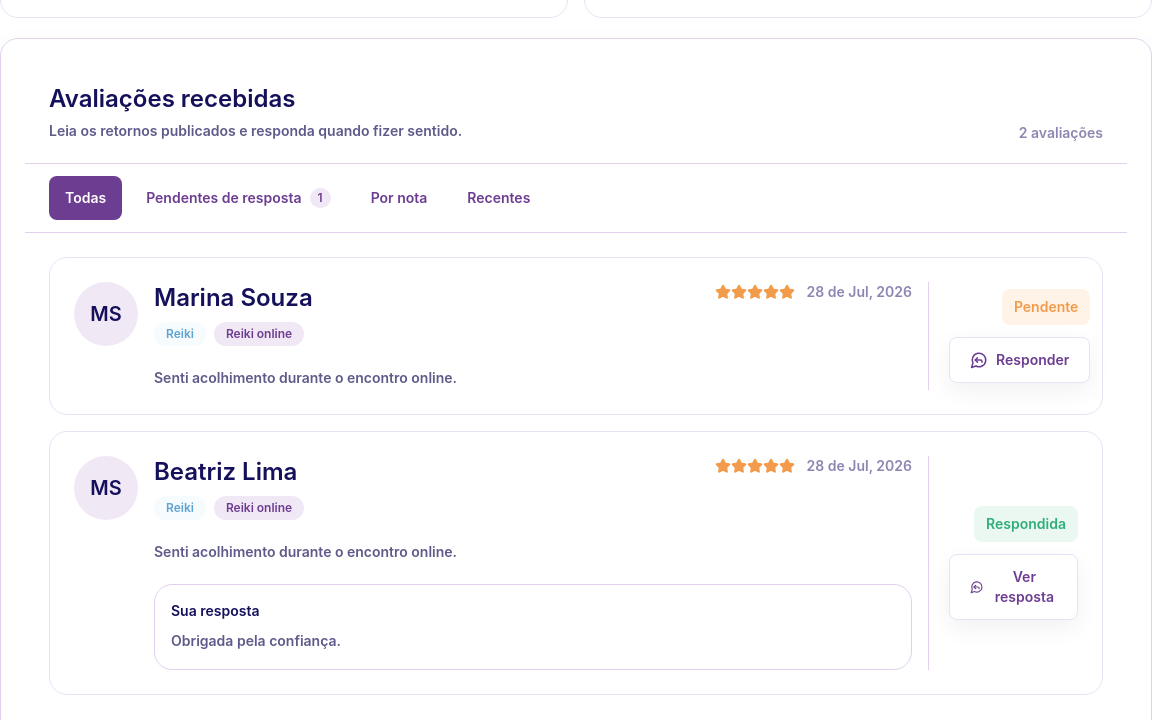
Scenario: TherapistReviewsPage › shows validation feedback centrally and keeps the reply field available
This screenshot has width=1152, height=720.
(page scrolled)
Click the button "Responder": point(1020, 360) [949,337,1090,383]
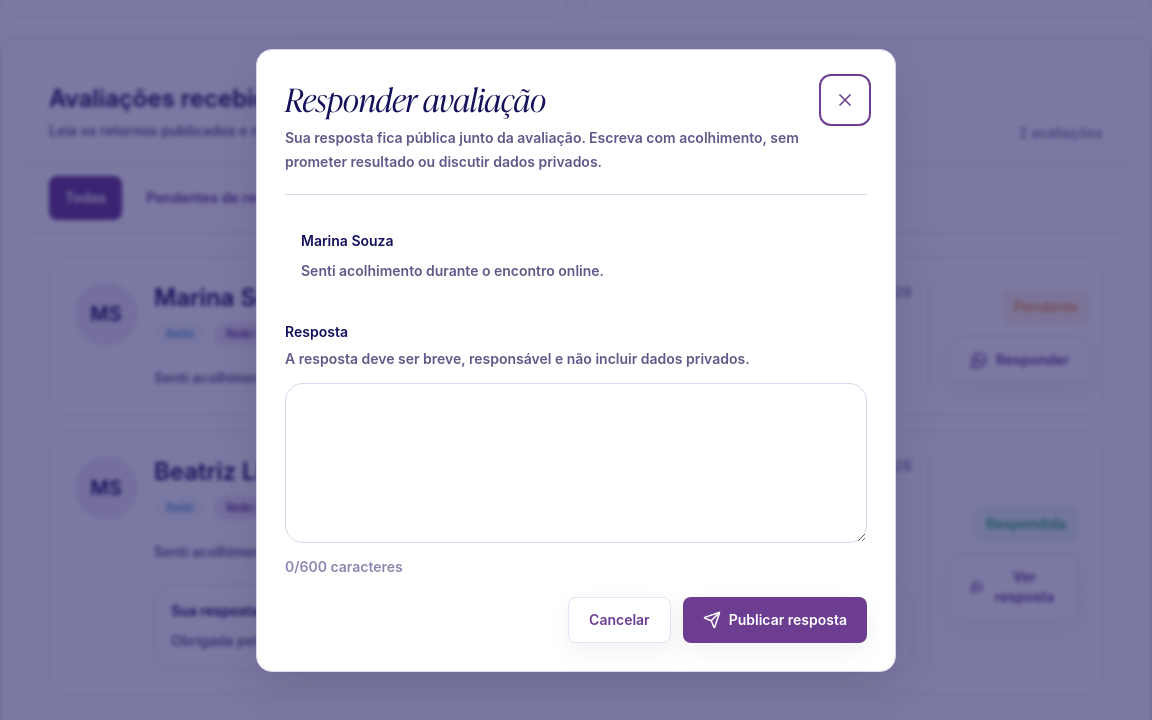
In the text box labelled "Resposta": point(576, 462) [285,382,867,542], type "ok"
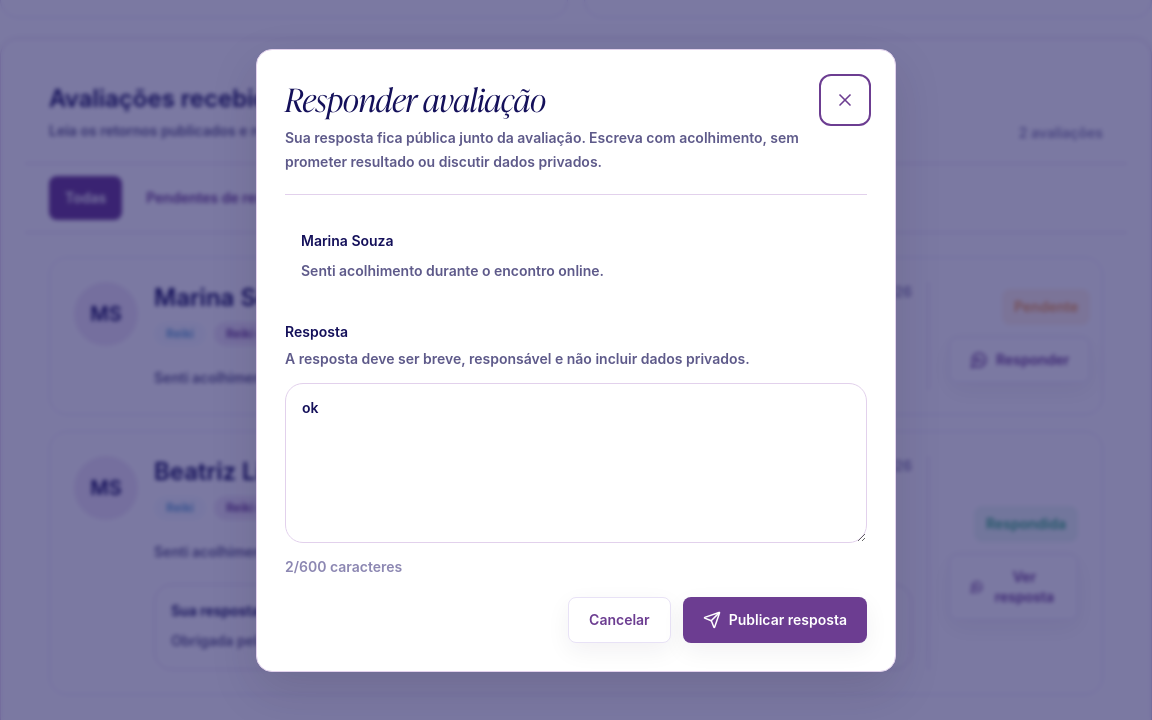
Click the button "Publicar resposta": point(775, 620) [683,596,867,642]
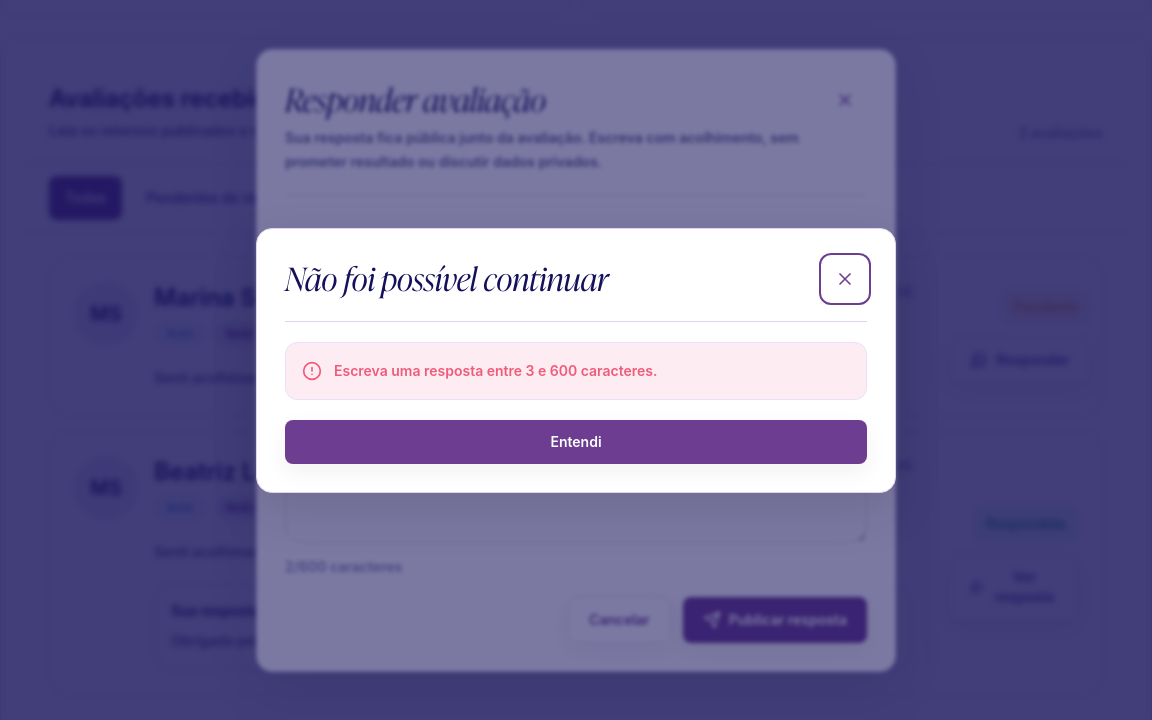
Now the message reads "Escreva uma resposta entre 3 e 600 caracteres.", box [334,362,658,378]
